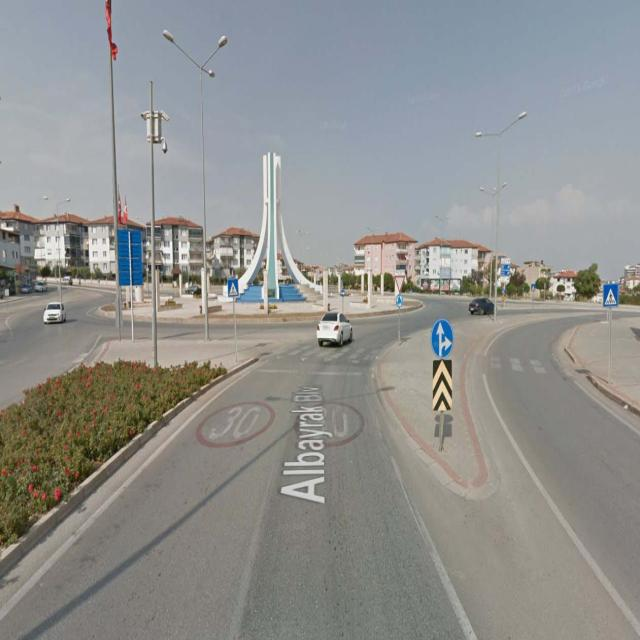ilerisag: (432, 318, 454, 359)
